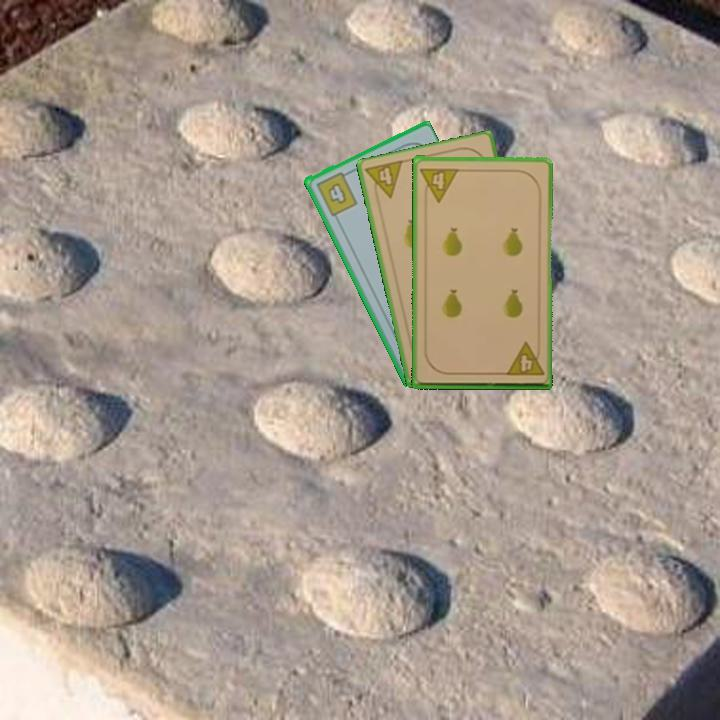4b: (312, 167, 360, 219)
4p: (362, 157, 406, 205), (417, 164, 461, 204), (502, 339, 546, 378)
